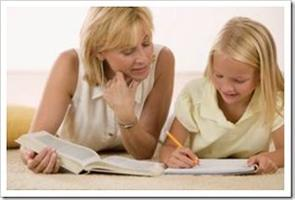person: (160, 17, 286, 175)
